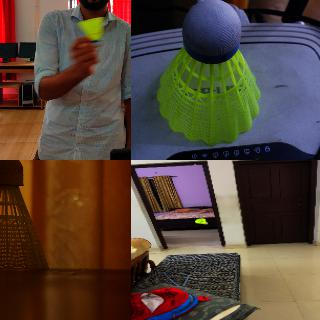shuttlecock: (156, 0, 261, 146), (0, 160, 48, 269), (76, 16, 105, 46), (195, 218, 208, 224)
